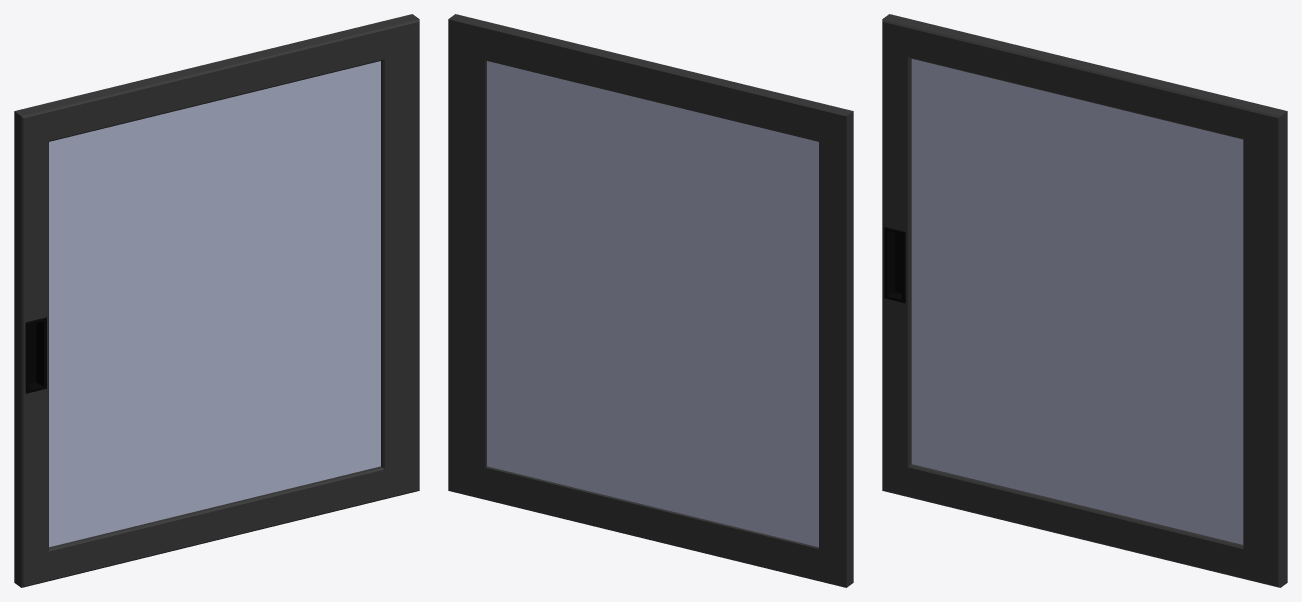
The model's file is Lockers_02_B_SM.FBX.
The picture shows the model from 3 angles, left to right: view 1: azimuth 30°, elevation 25°; view 2: azimuth 150°, elevation 25°; view 3: azimuth 330°, elevation 25°; orthographic projection.
Visible parts, largest first — view 1: Lockers_02_B_SM; view 2: Lockers_02_B_SM; view 3: Lockers_02_B_SM.
Boxes of the visible parts, bbox=[...] form: Lockers_02_B_SM: bbox=[14, 14, 419, 587]; Lockers_02_B_SM: bbox=[448, 14, 853, 587]; Lockers_02_B_SM: bbox=[882, 14, 1287, 587].
Bounding box in the file's own units: 104 × 3.97 × 118.
